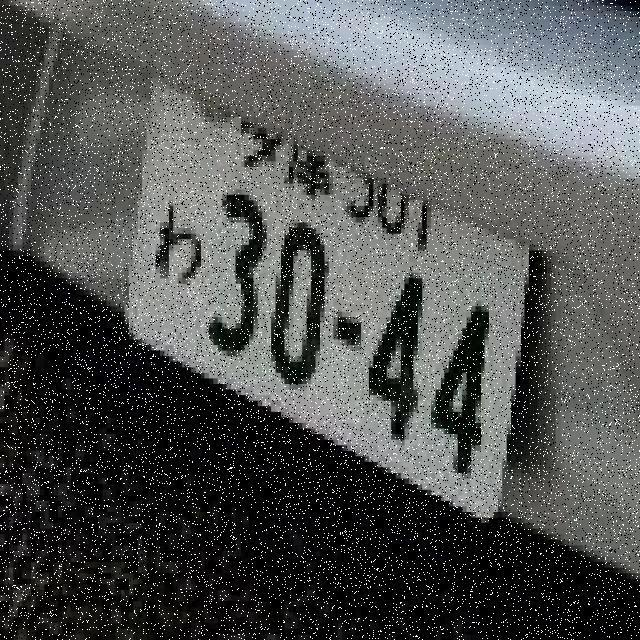LicensePlate: (117, 37, 526, 528)
